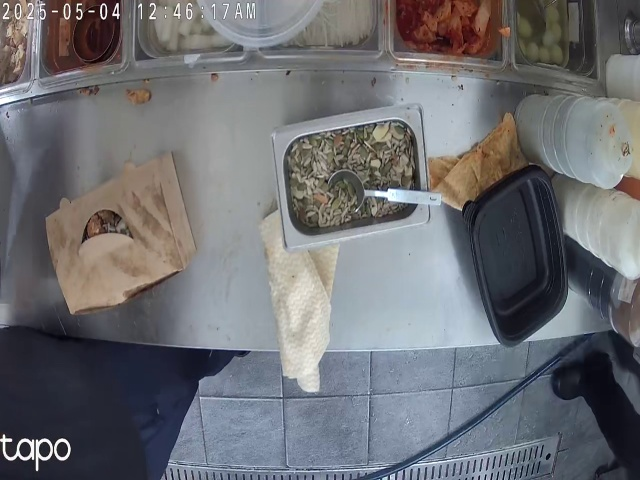closed delivery box: (41, 185, 190, 302)
